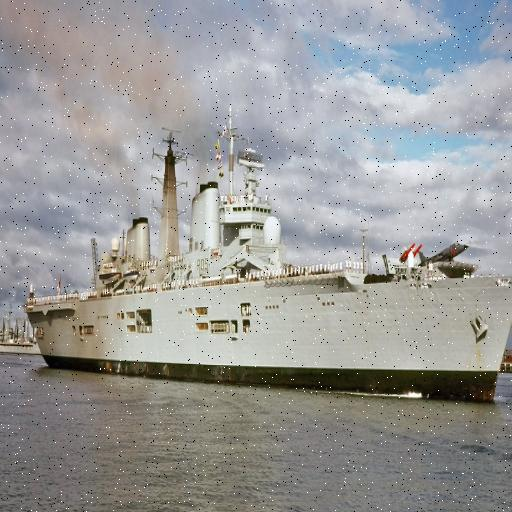Portanaves: (20, 100, 512, 424)
